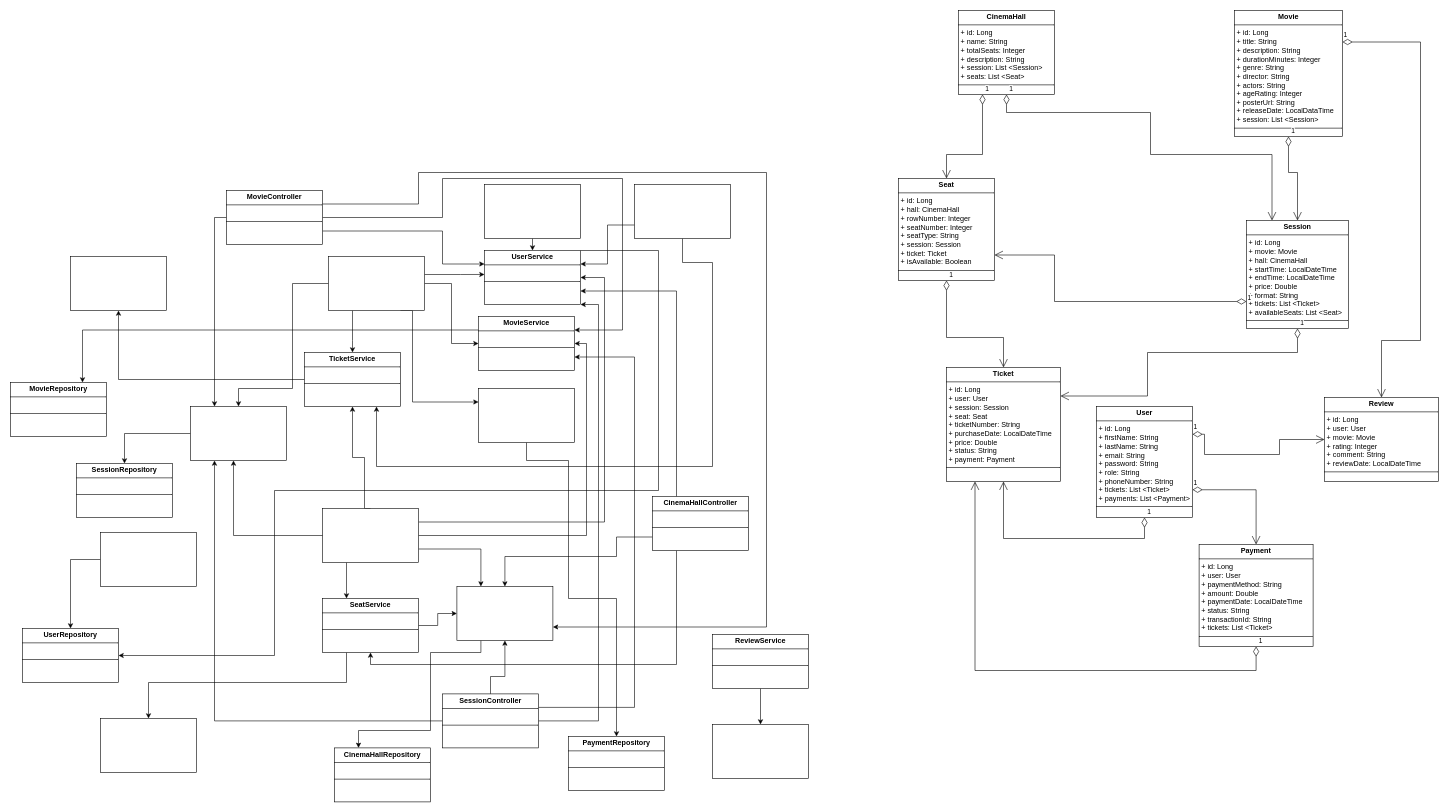
This 1449x812 diagram has some shape labels left out. Each missing label, with the centre of its shape:
"AdminController" goes at (x=376, y=283).
"AuthController" goes at (x=532, y=211).
"BookingController" goes at (x=370, y=535).
"CinemaHallService" goes at (x=504, y=613).
"CustomerController" goes at (x=682, y=211).
"CustomUserDetailsService" goes at (x=148, y=559).
"PaymentService" goes at (x=526, y=415).
"ReviewRepository" goes at (x=760, y=751).
"SeatRepository" goes at (x=148, y=745).
"SessionService" goes at (x=238, y=433).
"TicketRepository" goes at (x=118, y=283).
